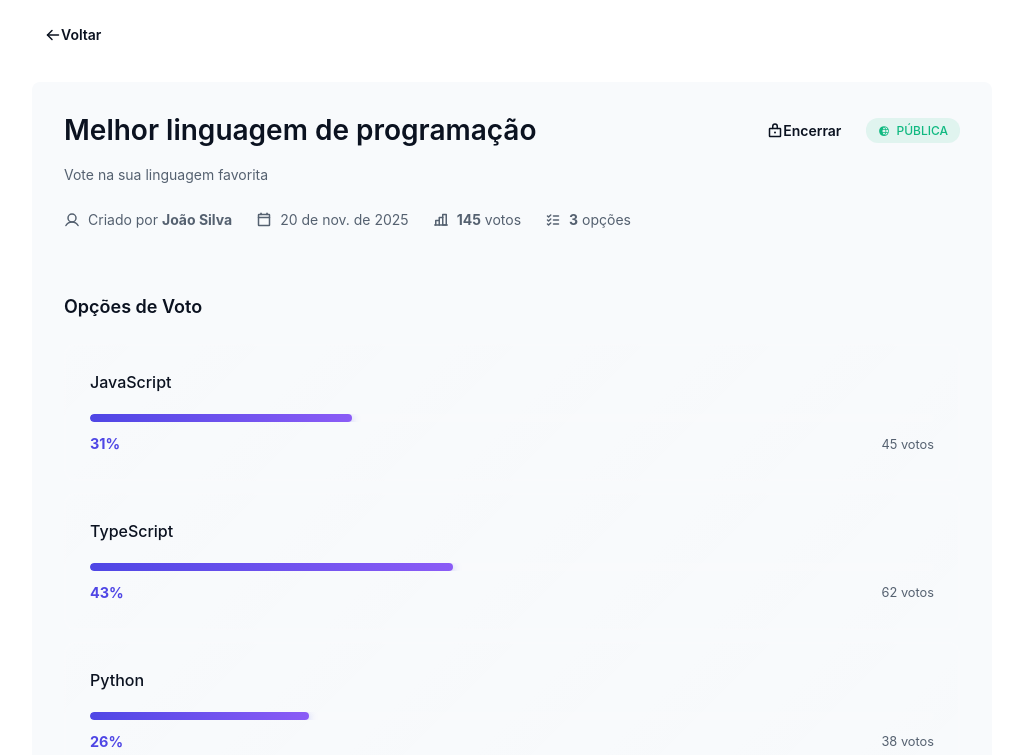
Test: PollDetailsPage › Estados de loading › deve exibir "Registrando voto..." durante votação
Click the text "JavaScript".
click(131, 382)  # box [90, 372, 172, 392]
(page scrolled)
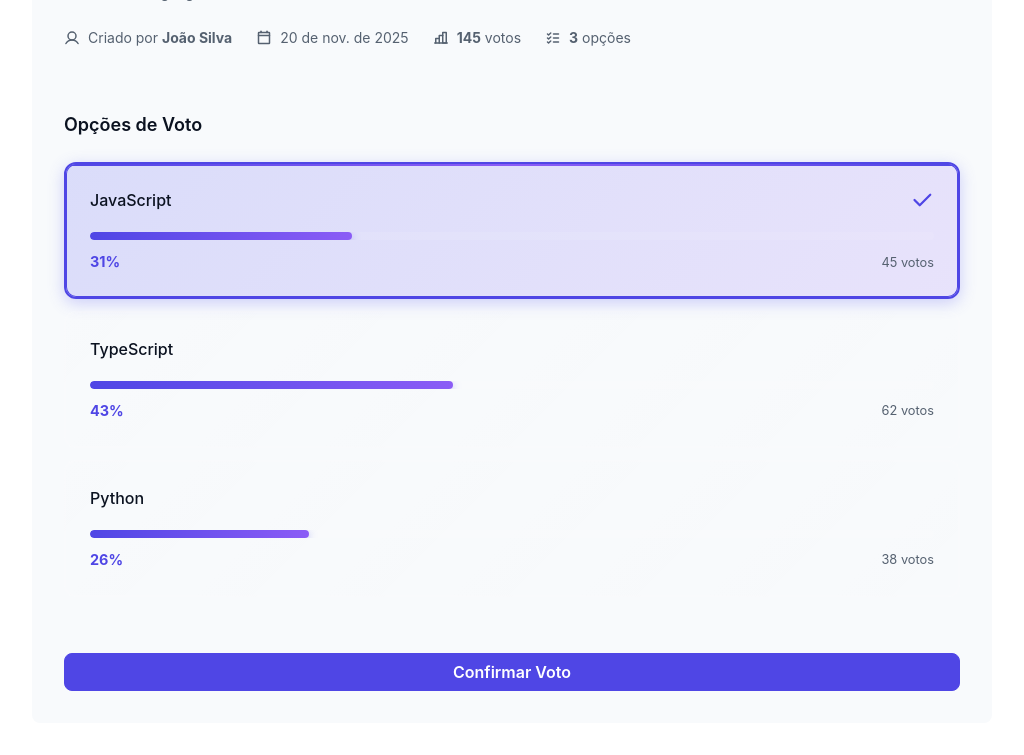
Click the button "Confirmar Voto".
click(512, 672)  # box [64, 653, 960, 691]
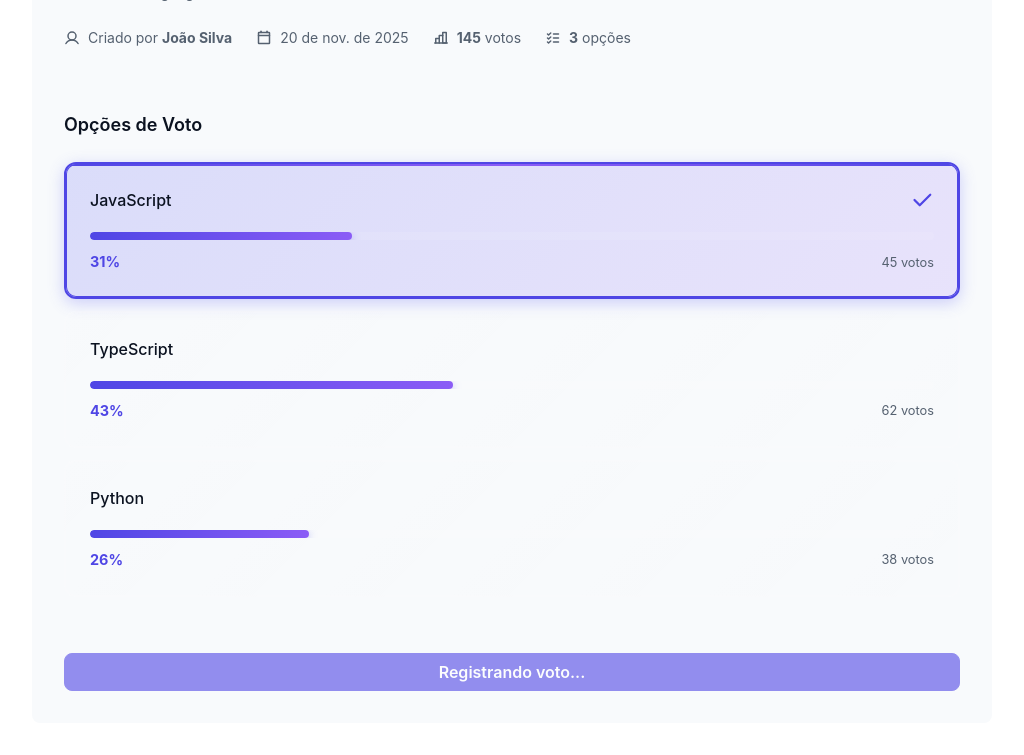
Expected: the text "Registrando voto..." is shown, [439, 662, 585, 682]
